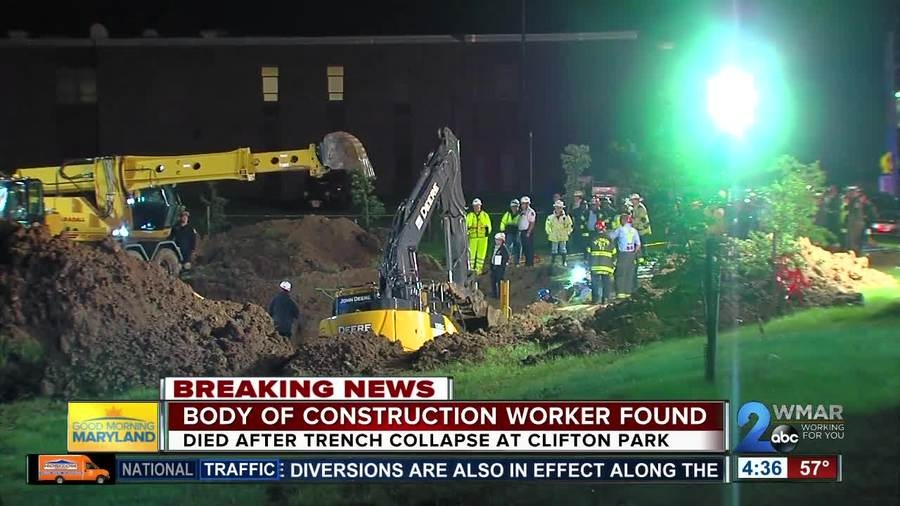red: (592, 218, 606, 234), (619, 213, 632, 226)
white: (278, 279, 292, 295), (493, 231, 506, 245), (628, 190, 640, 204), (519, 194, 530, 209), (509, 198, 520, 212), (572, 189, 583, 203), (471, 197, 482, 210), (553, 199, 564, 211)
